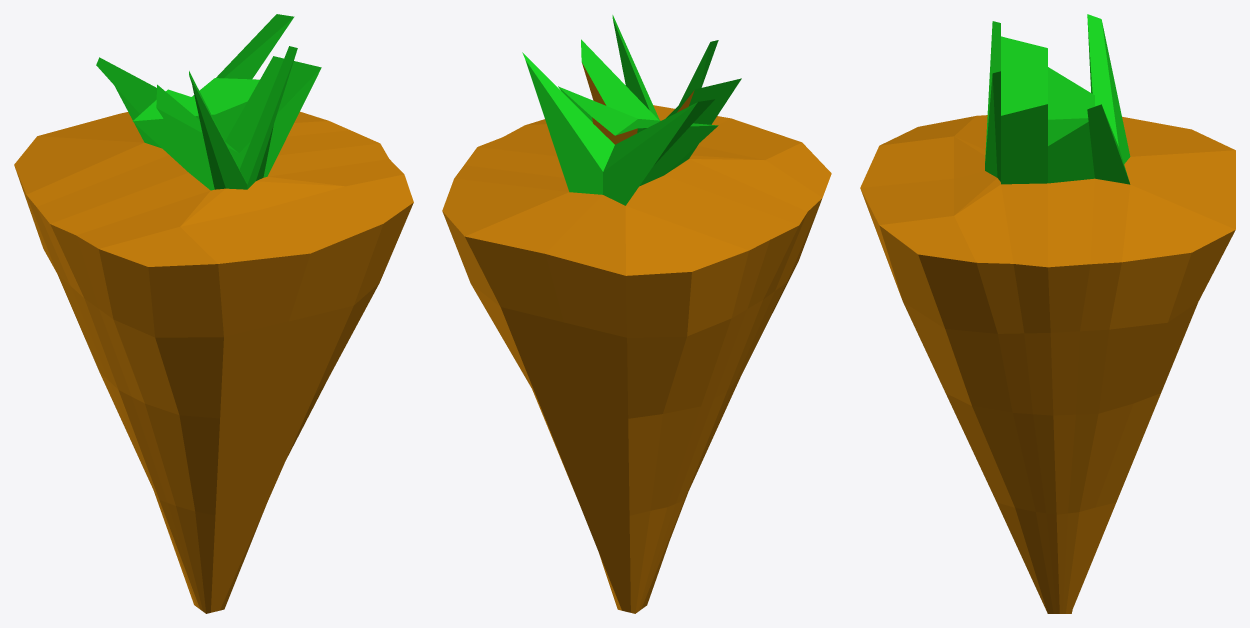
File: ExportedBlenderFBXFile.fbx
3 renders of one model, left to right at view 1: azimuth 30°, elevation 25°; view 2: azimuth 150°, elevation 25°; view 3: azimuth 270°, elevation 25°, orthographic. The views are drawn at different scales.
Visible parts, largest first — view 1: Cube; view 2: Cube; view 3: Cube.
Part boxes in pixels (x1,y1,x2,y2): Cube: (14, 14, 413, 613); Cube: (442, 15, 831, 613); Cube: (860, 14, 1235, 613).
Size of the model in its own units: 2 by 3.3 by 2.
